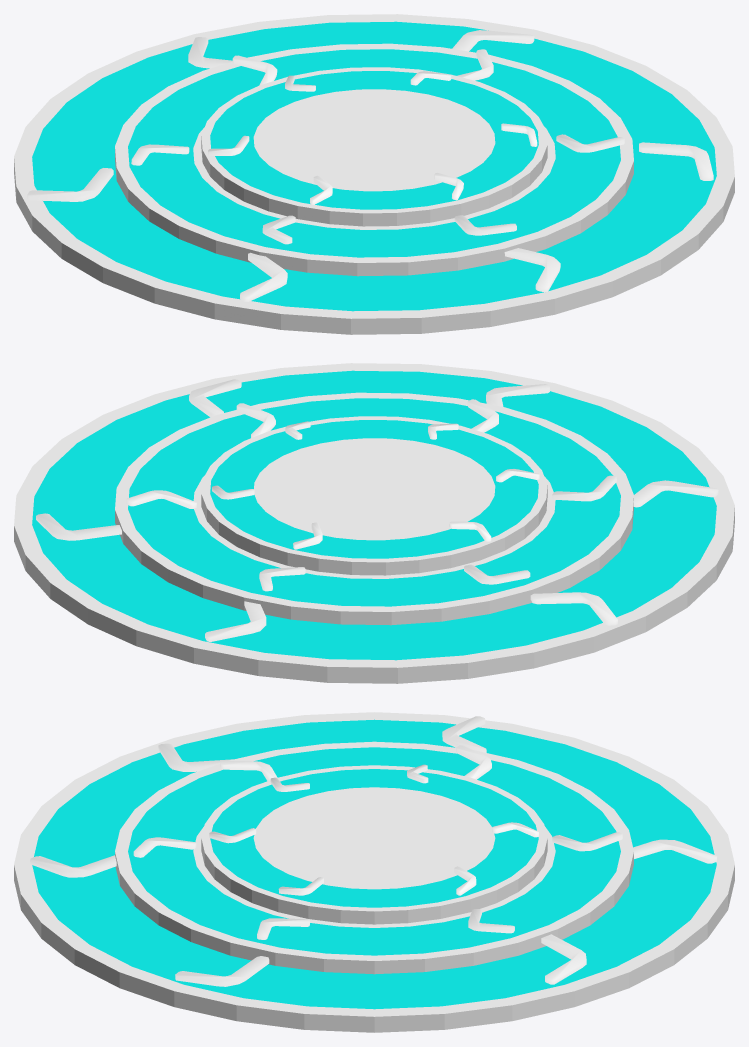
File: threeturn.fbx
The picture shows the model from 3 angles, top to bottom: view 1: azimuth 30°, elevation 25°; view 2: azimuth 150°, elevation 25°; view 3: azimuth 270°, elevation 25°; orthographic projection.
Parts seen in each view (by area): view 1: 圆环.01, 圆环.02, 圆环.03; view 2: 圆环.01, 圆环.02, 圆环.03; view 3: 圆环.01, 圆环.02, 圆环.03.
Boxes of the visible parts, x1=… form: 圆环.01: x1=14, y1=14, x2=734, y2=334; 圆环.02: x1=115, y1=43, x2=633, y2=276; 圆环.03: x1=201, y1=67, x2=547, y2=226; 圆环.01: x1=14, y1=363, x2=734, y2=683; 圆环.02: x1=115, y1=392, x2=633, y2=625; 圆环.03: x1=201, y1=416, x2=547, y2=575; 圆环.01: x1=14, y1=712, x2=734, y2=1032; 圆环.02: x1=115, y1=741, x2=633, y2=974; 圆环.03: x1=201, y1=764, x2=547, y2=924.
Size of the model in its own units: 2500 by 200 by 2500.
